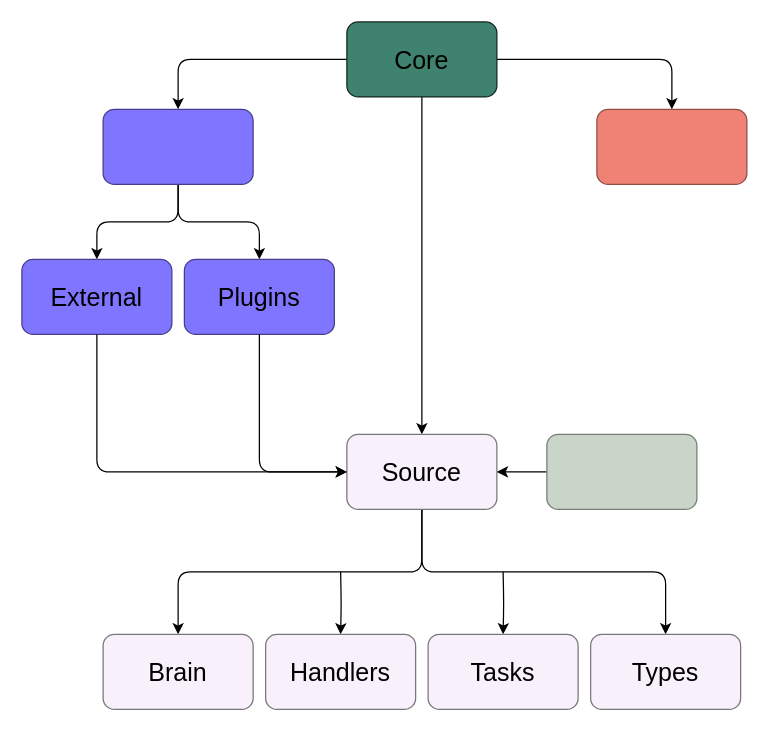
The diagram is 769 pixels wide and 731 high, and some of its shapes have lost their labels. Each missing label, with the box of its shape:
Blackboard: (546, 433, 697, 509)
Components: (102, 108, 253, 184)
Tests: (596, 108, 747, 184)
